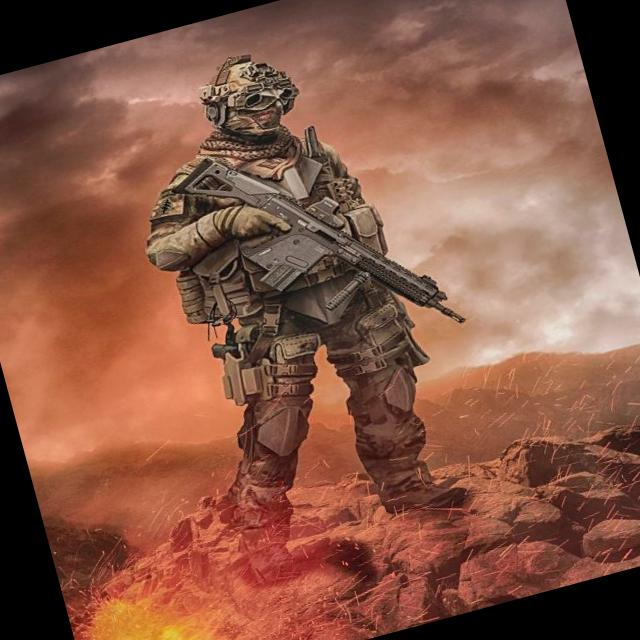Gun: (175, 158, 464, 322)
